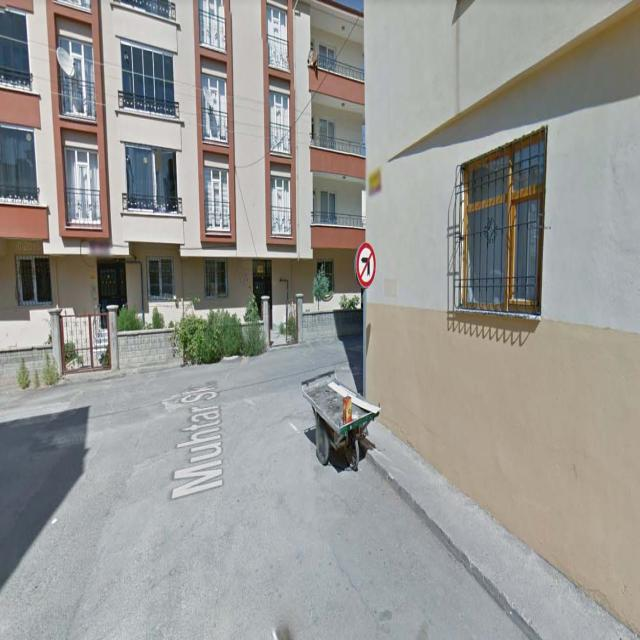soladonulmez: (355, 242, 377, 288)
